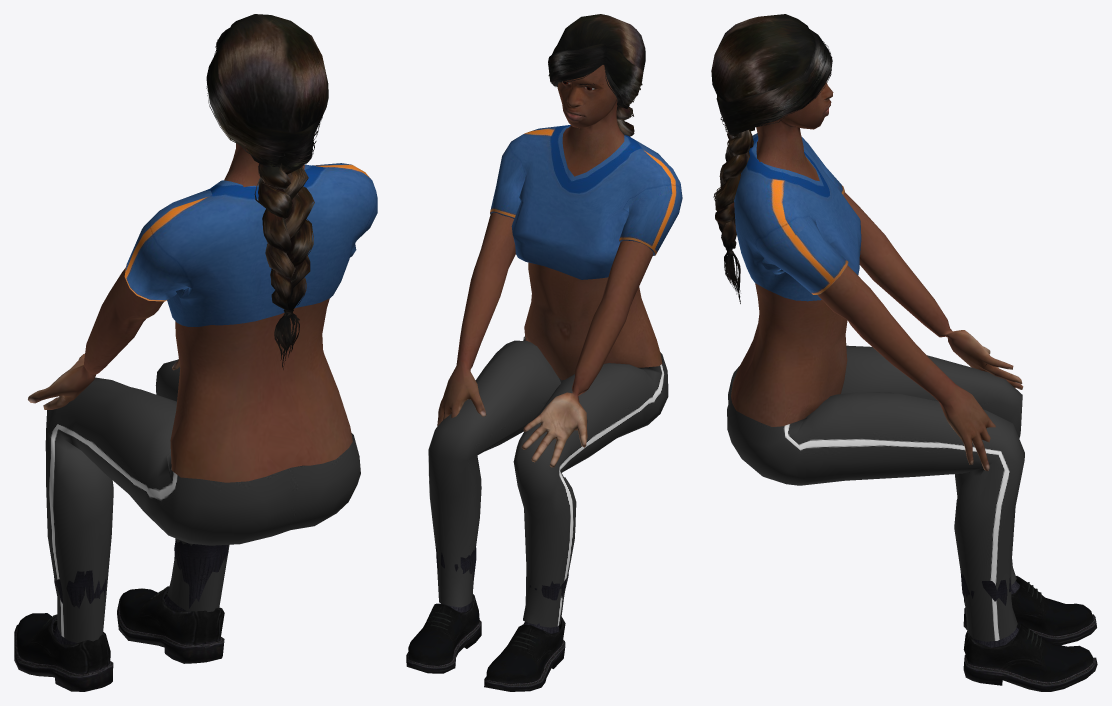
The model's file is sitting_4.gltf.
The picture shows the model from 3 angles, left to right: view 1: azimuth 30°, elevation 25°; view 2: azimuth 150°, elevation 25°; view 3: azimuth 270°, elevation 25°; orthographic projection. The views are drawn at different scales.
Parts seen in each view (by area): view 1: sitting; view 2: sitting; view 3: sitting.
Boxes of the visible parts, bbox=[...] form: sitting: bbox=[14, 14, 377, 691]; sitting: bbox=[406, 14, 682, 691]; sitting: bbox=[711, 14, 1097, 691].
Size of the model in its own units: 0.443 by 1.37 by 0.7542.
Materials: 6 (6 with a texture image).
